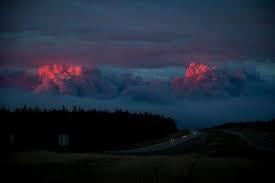fire: (35, 61, 85, 88)
